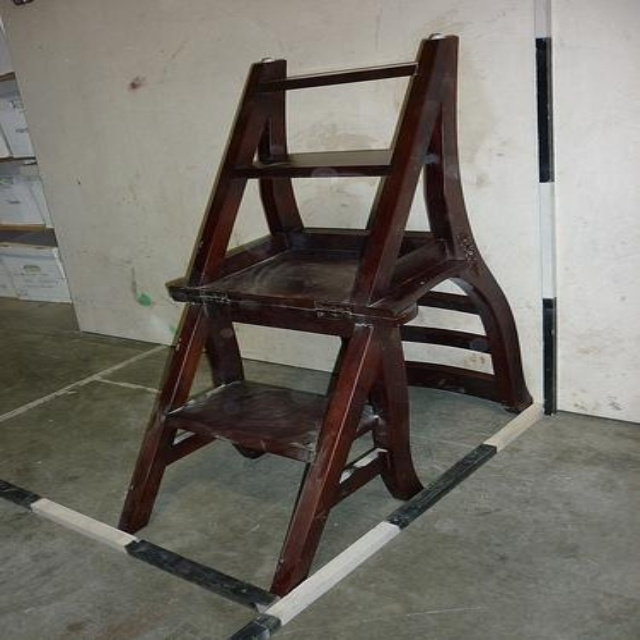obstacle: (119, 36, 529, 594)
